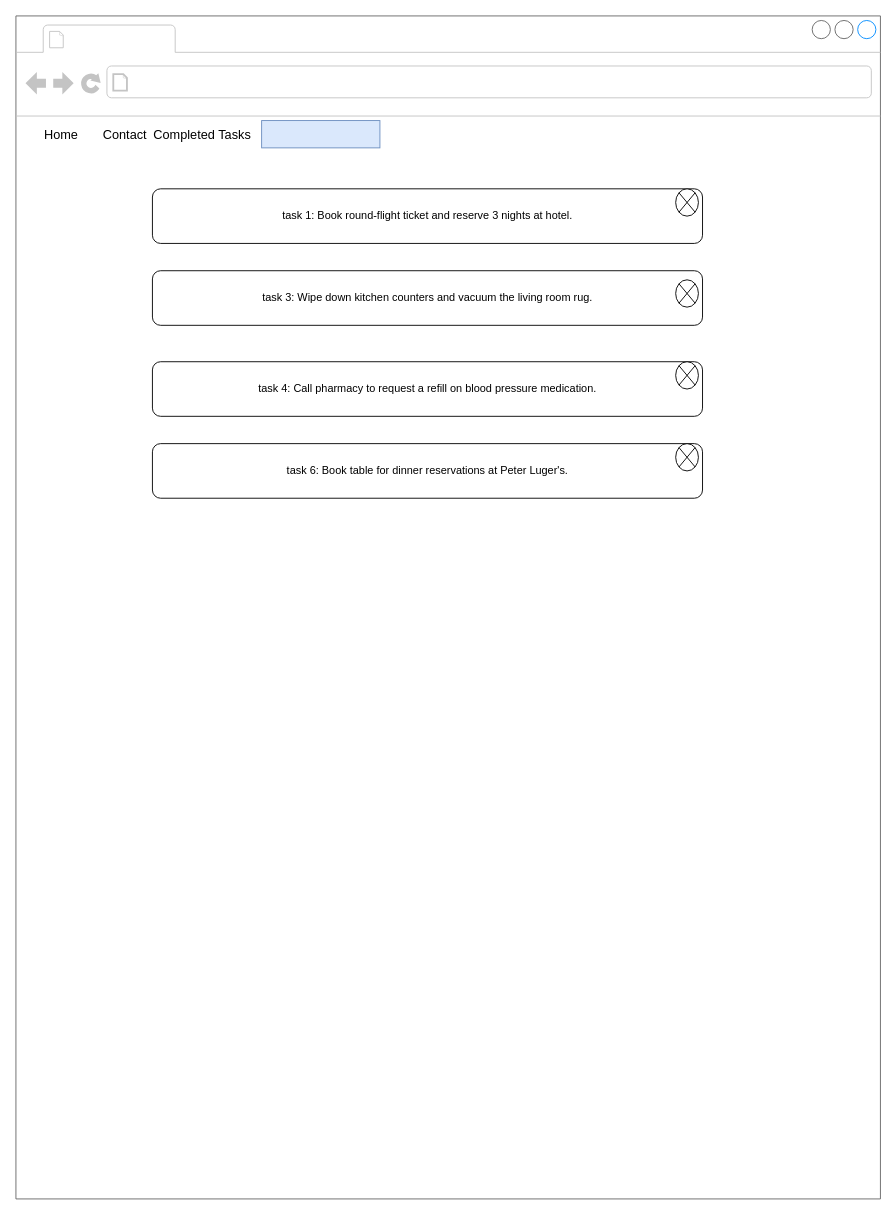
Image size: 896x1215. Some labels were removed from this diagram. Here are the shapes that lost their labels. From the top down, the centre of each, then its label:
At (120,38): "Page 1".
At (247,82): "https://www.jungleroomcafé.com".
At (320,134): "Inconplete Tasks".
